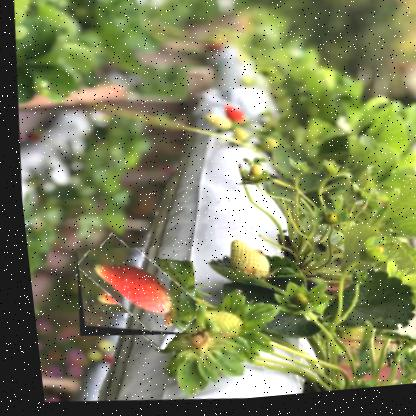strawberry: (64, 240, 195, 345)
